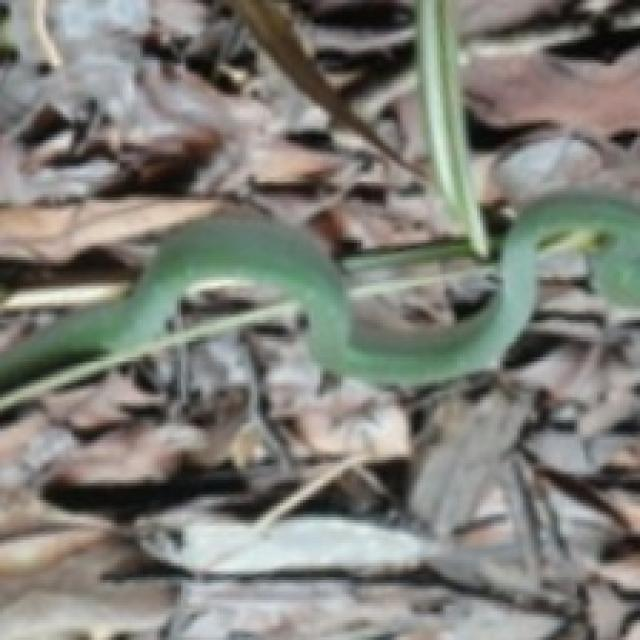north ph temple pitviper: (0, 191, 637, 389)
